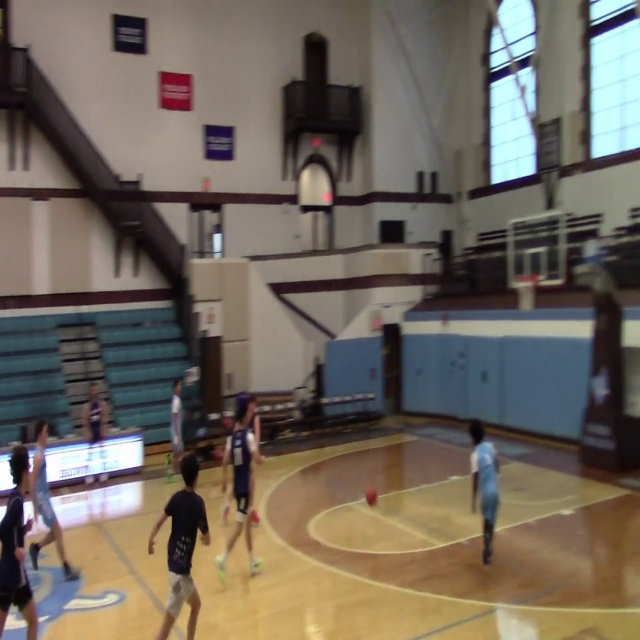Basketball: (365, 487, 377, 506), (250, 510, 260, 523)
